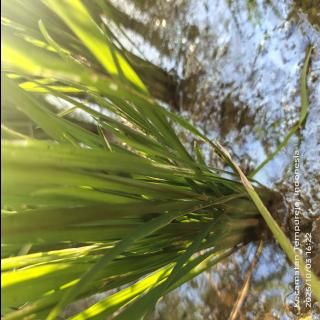Hawar-Daun: (216, 141, 254, 192)
